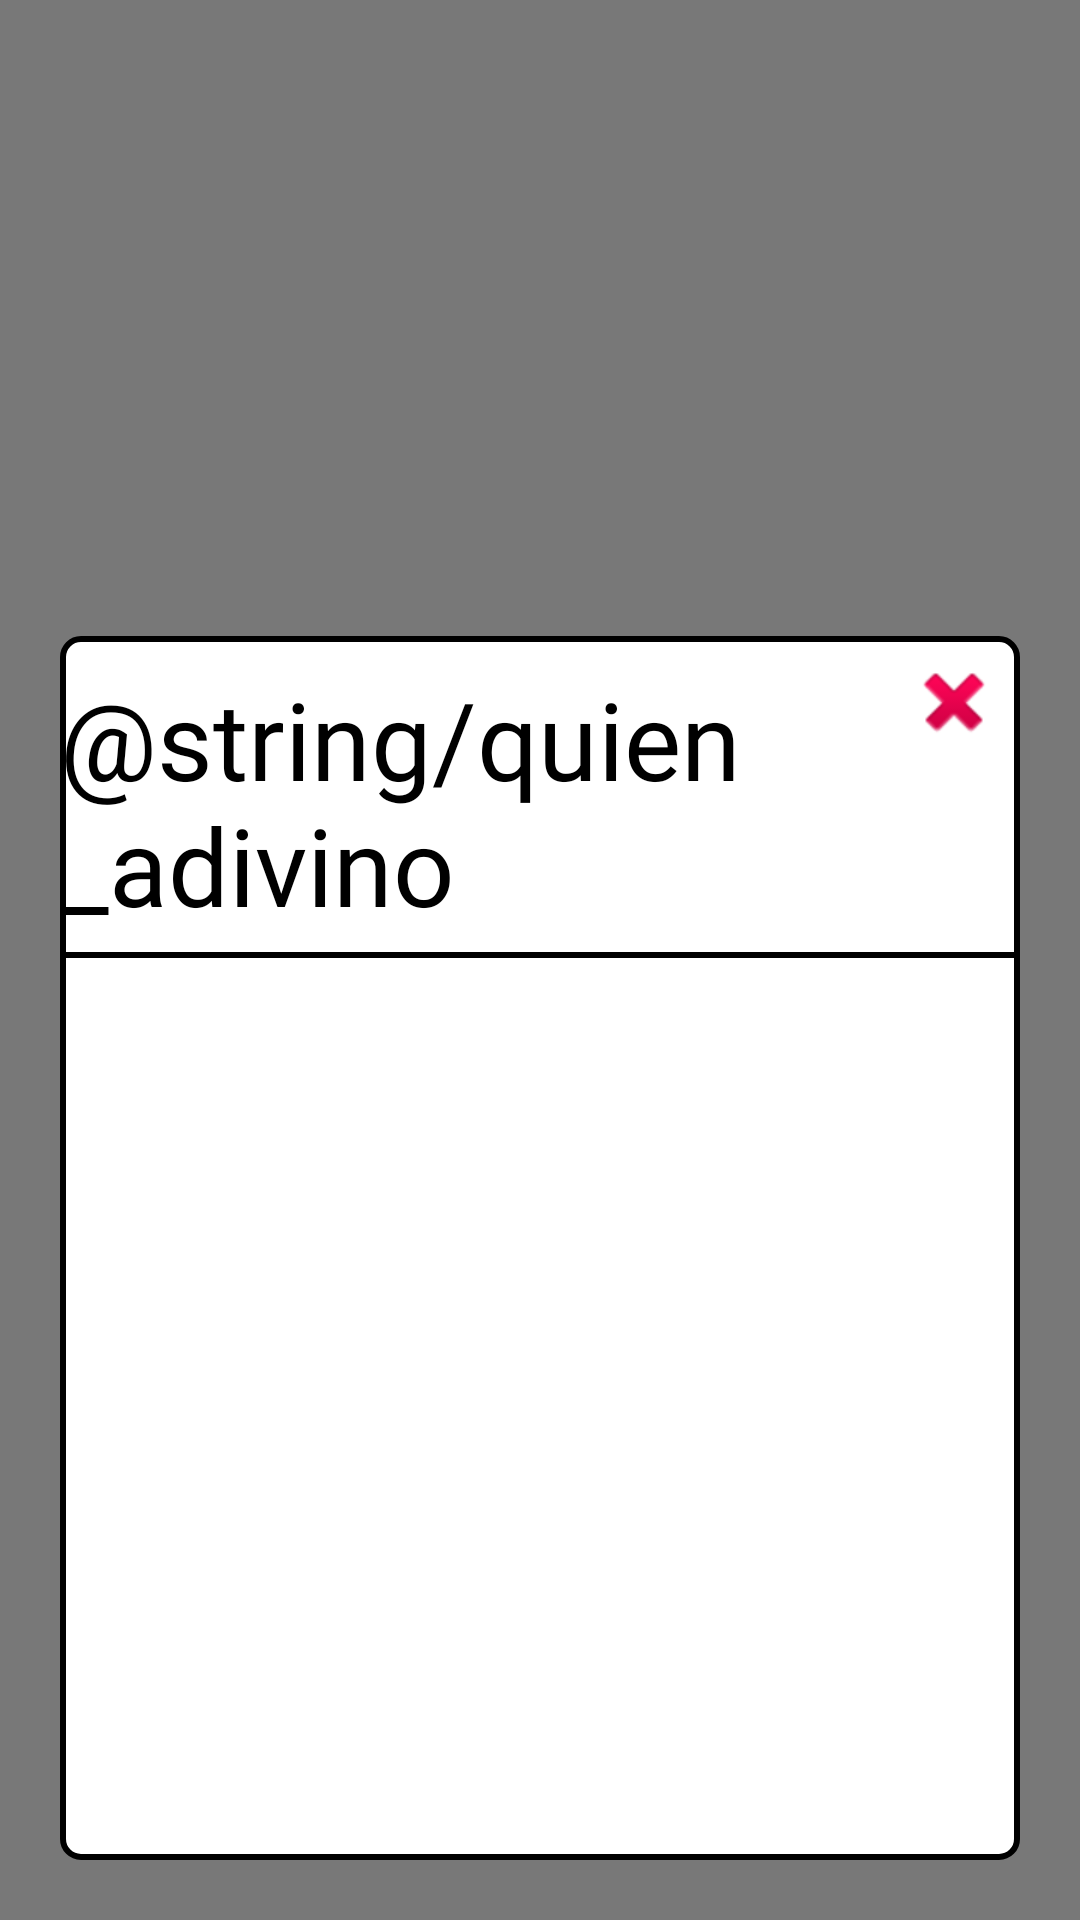

Icon bounding boxes for this 1080x1920 phone screenshot, format (x1, y1, x2, y2):
delete: (923, 673, 985, 732)
